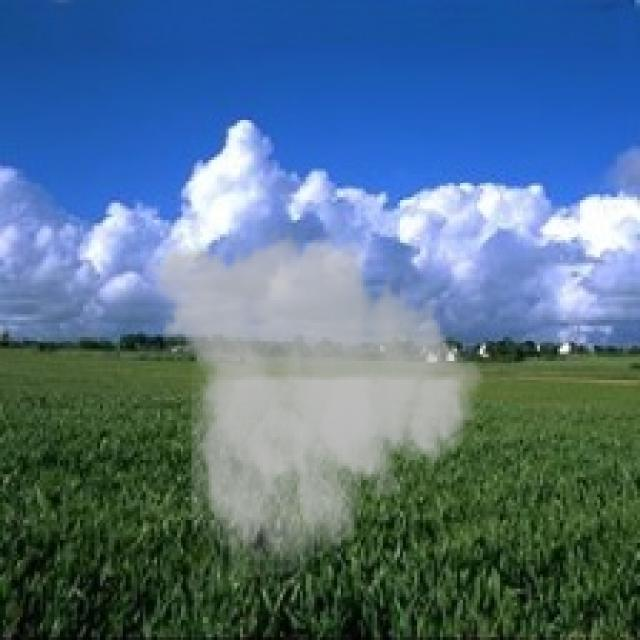smoke: (137, 223, 494, 577)
